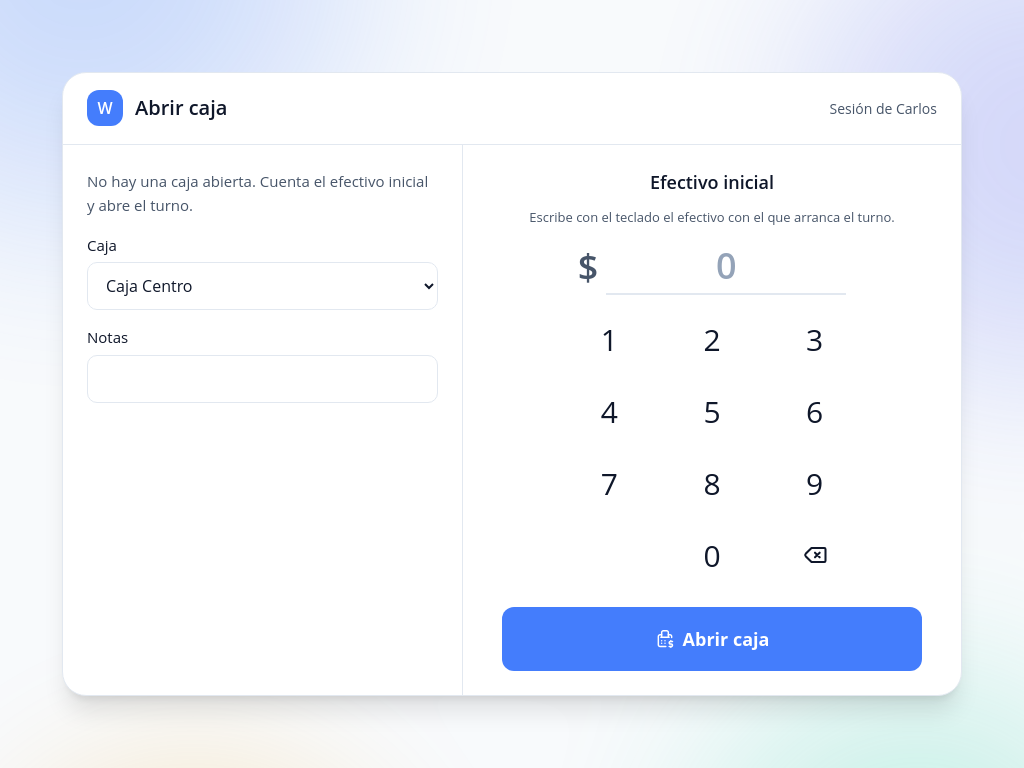
muestra el mensaje del servidor cuando no se puede abrir la caja
expect the dropdown labelled "Caja" shows "Caja Centro": met, box [87,262,438,310]
Click the button "Abrir caja". click: [712, 639]
box: [502,607,922,671]
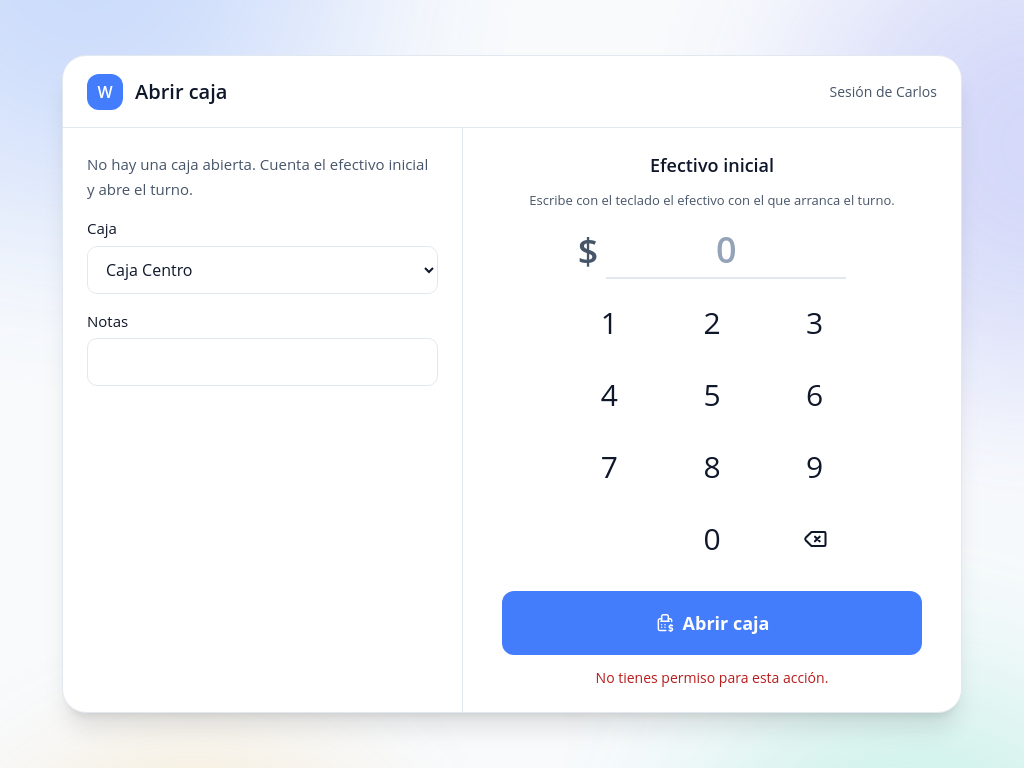
expect the message reads "No tienes permiso para esta acción.": met, box [596,668,828,687]
